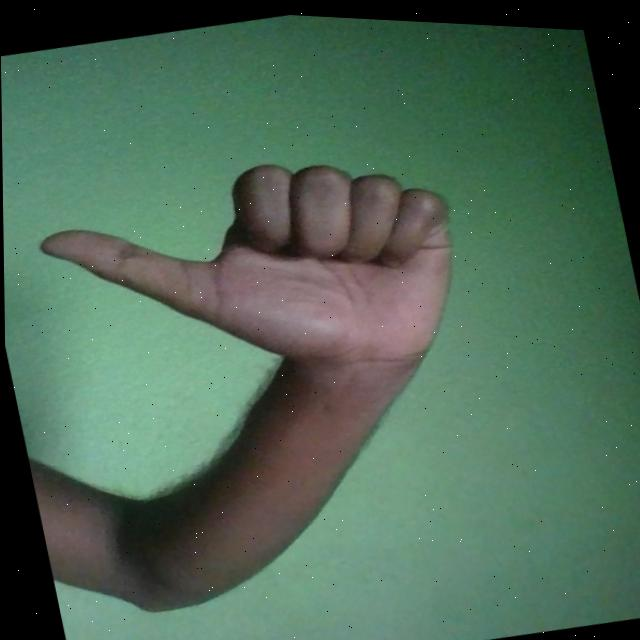Dislike: (26, 117, 481, 427)
